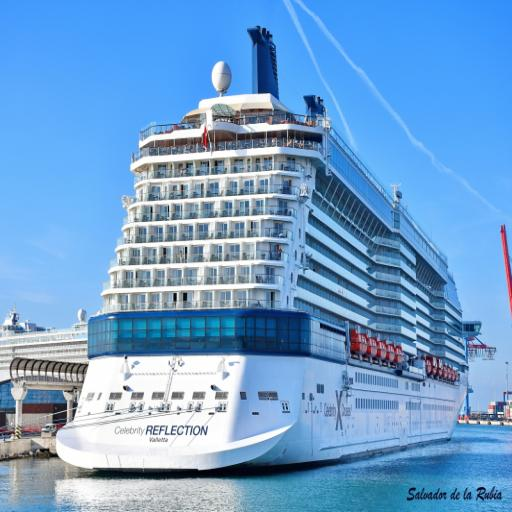cruises: (58, 16, 473, 477)
